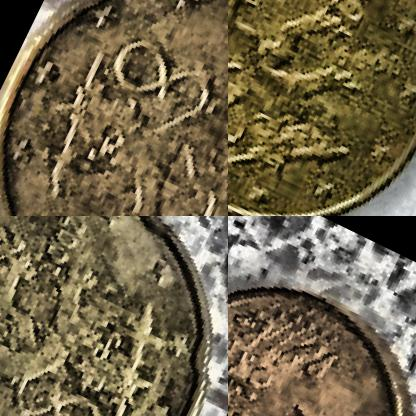coin: (0, 0, 227, 215), (0, 216, 227, 415), (228, 0, 415, 215), (228, 237, 415, 415)
